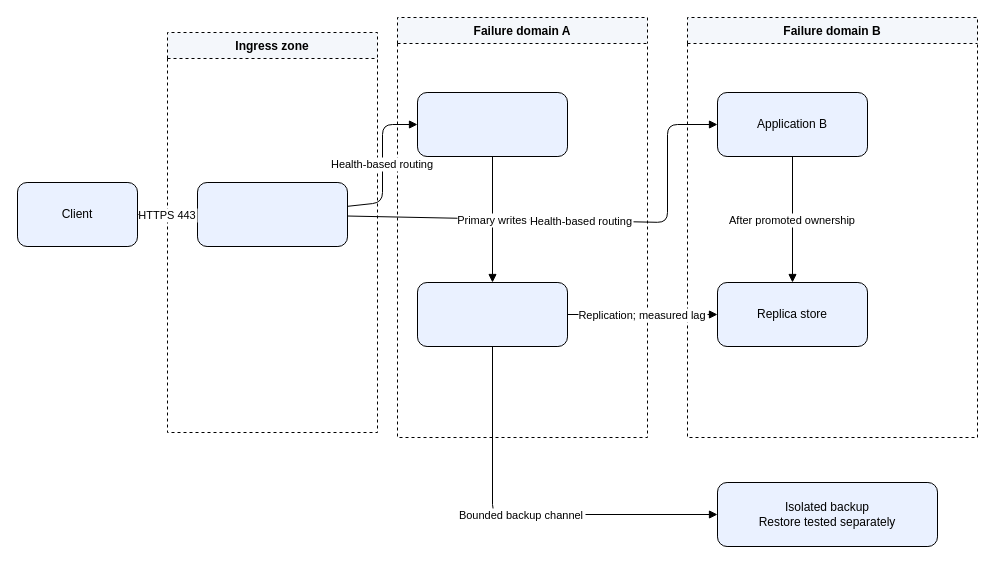
This 995x564 diagram has some shape labels left out. Each missing label, with the centre of its shape:
Application A: (x=492, y=124)
Ingress TLS termination: (x=272, y=214)
Primary store: (x=492, y=314)
